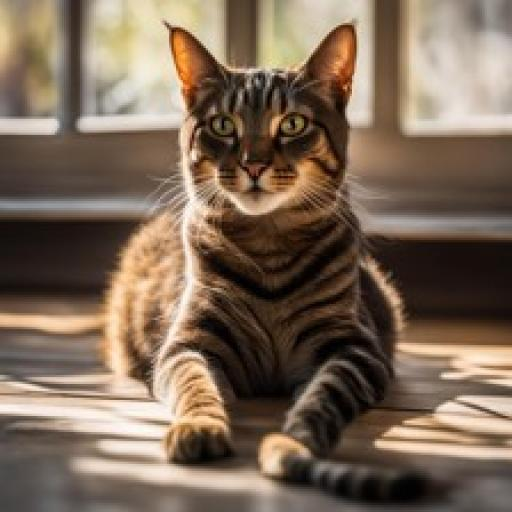cat: (102, 4, 402, 478)
